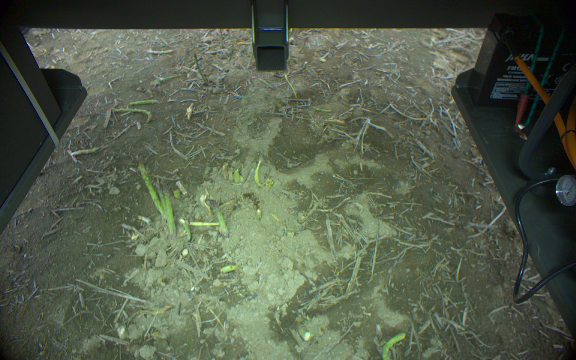aspa: (138, 162, 164, 216), (206, 199, 229, 240), (380, 331, 408, 360), (162, 184, 177, 238), (110, 109, 154, 124), (190, 50, 208, 86), (179, 218, 192, 241), (153, 180, 164, 203)
